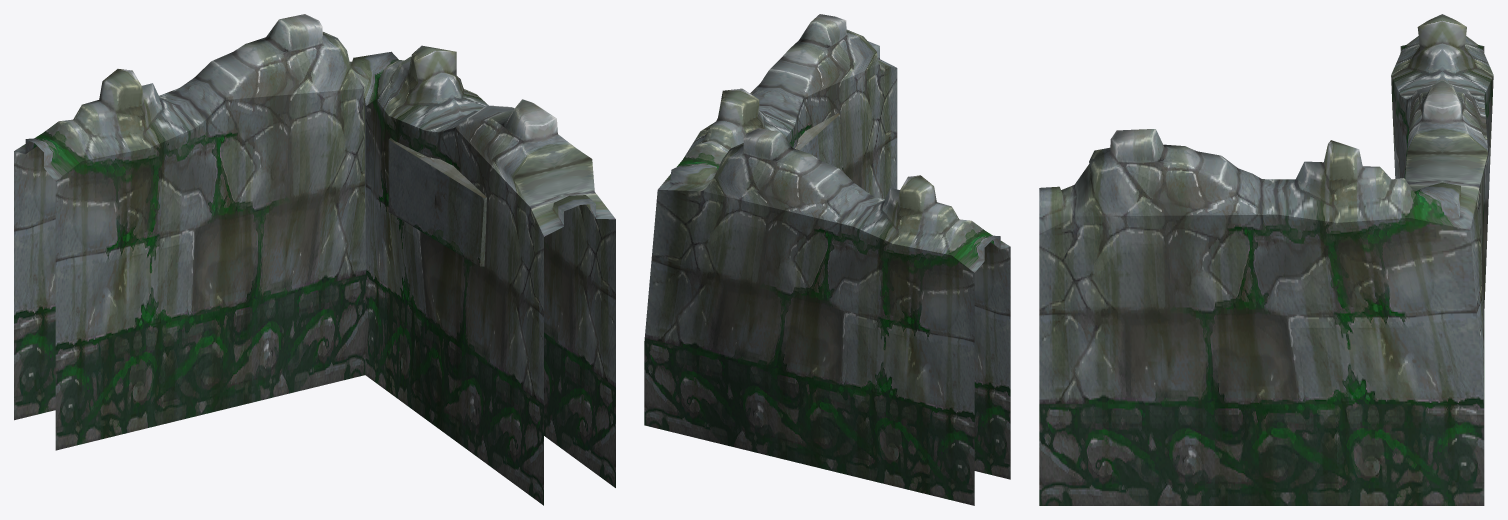
Rendered from stemple_half_concave_01.fbx.
3 views of the same model, side by side, from view 1: azimuth 30°, elevation 25°; view 2: azimuth 150°, elevation 25°; view 3: azimuth 270°, elevation 25° (orthographic). The views are drawn at different scales.
Visible parts, largest first — view 1: stemple_half_concave_01-0; view 2: stemple_half_concave_01-0; view 3: stemple_half_concave_01-0.
Boxes of the visible parts, x1=… form: stemple_half_concave_01-0: x1=14, y1=14, x2=615, y2=505; stemple_half_concave_01-0: x1=644, y1=14, x2=1010, y2=505; stemple_half_concave_01-0: x1=1039, y1=14, x2=1493, y2=505.
Bounding box in the file's own units: 4.51 × 3.94 × 4.51.
